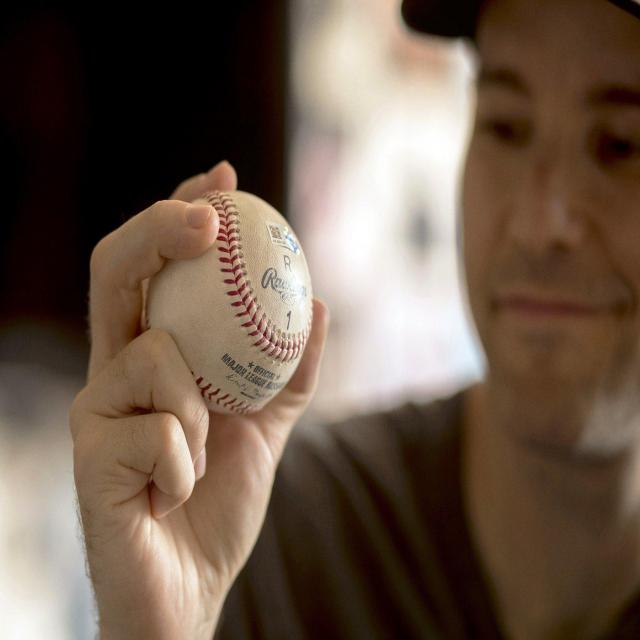baseball: (153, 192, 311, 407)
